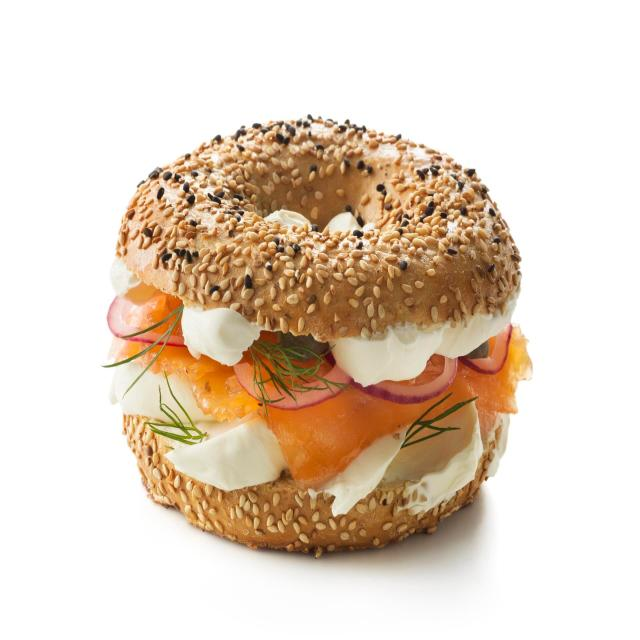Bagel: (116, 117, 520, 342), (124, 415, 502, 557)
